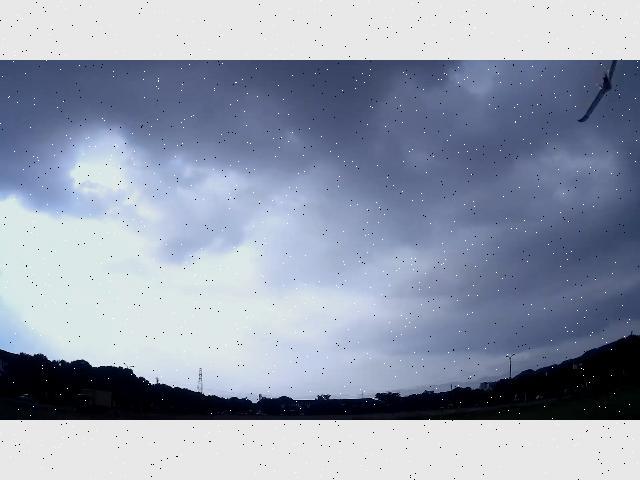Anti-Drone: (564, 61, 632, 122)
